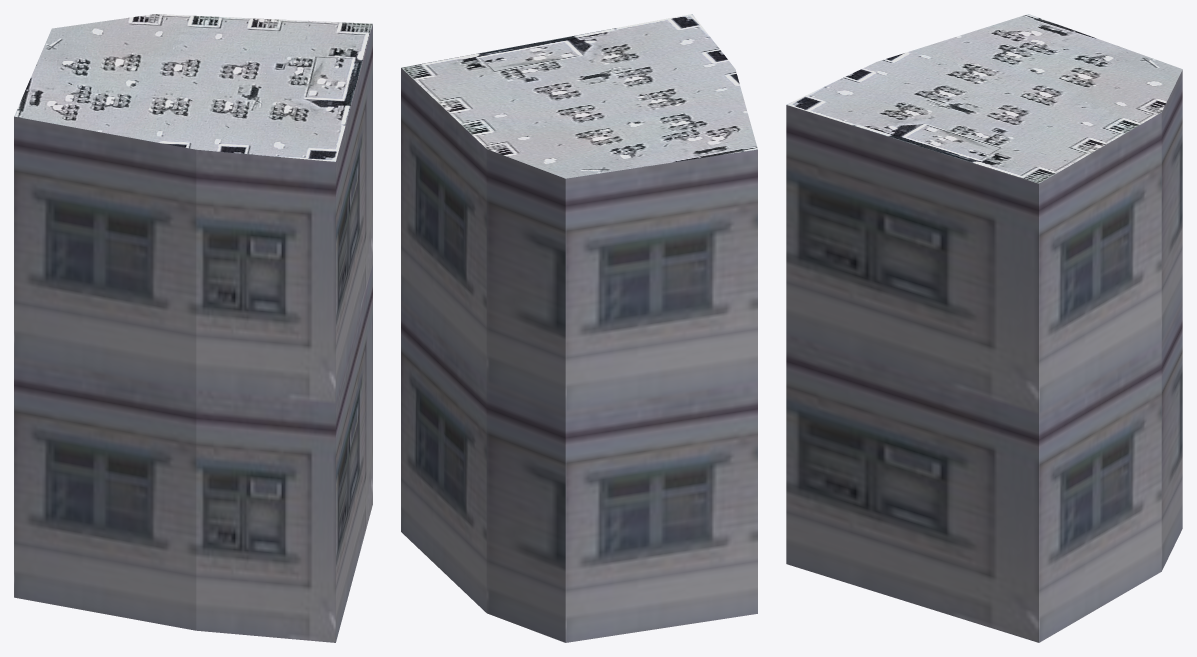
File: ResTex__2322.fbx
3 views of the same model, side by side, from view 1: azimuth 30°, elevation 25°; view 2: azimuth 150°, elevation 25°; view 3: azimuth 270°, elevation 25° (orthographic). The views are drawn at different scales.
Parts seen in each view (by area): view 1: CityEngineMaterial_1_m, CityEngineMaterial_m; view 2: CityEngineMaterial_1_m, CityEngineMaterial_m; view 3: CityEngineMaterial_1_m, CityEngineMaterial_m.
Part boxes in pixels (x1,y1,x2,y2): CityEngineMaterial_1_m: (14,24,372,642); CityEngineMaterial_m: (14,14,372,161); CityEngineMaterial_1_m: (401,68,757,642); CityEngineMaterial_m: (401,14,757,178); CityEngineMaterial_1_m: (786,70,1182,642); CityEngineMaterial_m: (786,14,1182,183).
Size of the model in its own units: 4.76 by 6 by 4.7.
Materials: 2 (2 with a texture image).
